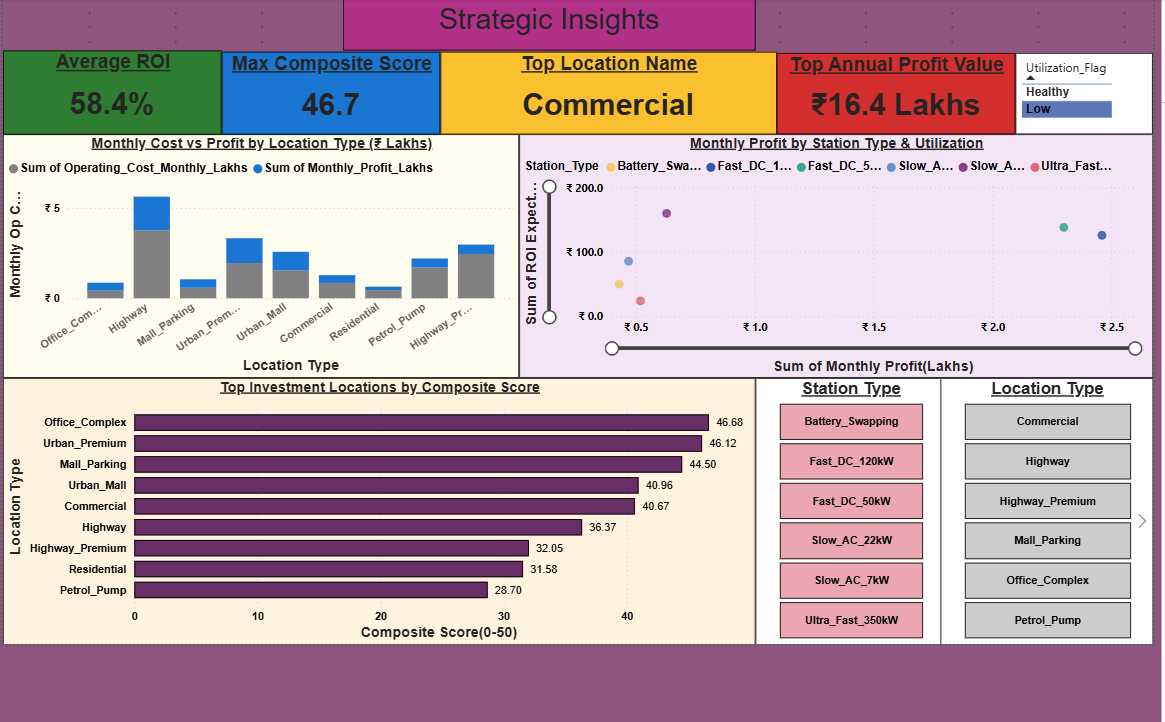

This screenshot's page, from the dashboard's own definition file:
{"tool":"powerbi","page":{"name":"Strategic Insights","canvas":[1280,720],"ordinal":3},"visuals":[{"type":"clusteredBarChart","title":"Top Investment Locations by Composite Score","fields":{"Category":["LocationScoreTbl.Location_Type"],"Y":["Sum(LocationScoreTbl.Avg_Composite_Score)"]},"box":[0,423,837.6,297.7],"z":0},{"type":"slicer","title":"Station Type","fields":{"Values":["StationTbl.Station_Type"]},"box":[837.6,423,211.5,297.7],"z":1000},{"type":"scatterChart","title":"Monthly Profit by Station Type & Utilization","fields":{"X":["Sum(StationTbl.Monthly_Profit_Lakhs)"],"Y":["Sum(StationTbl.ROI_Expected_Percent)"],"Series":["StationTbl.Station_Type"]},"box":[574.6,151.7,705.4,271.3],"z":2000},{"type":"columnChart","title":"Monthly Cost vs Profit by Location Type (₹ Lakhs)","fields":{"Category":["StationTbl.Location_Type"],"Y":["Sum(StationTbl.Operating_Cost_Monthly_Lakhs)","Sum(StationTbl.Monthly_Profit_Lakhs)"]},"box":[0,151.7,574.6,271.3],"z":3000},{"type":"slicer","title":"Location Type","fields":{"Values":["StationTbl.Location_Type"]},"box":[1043.5,423,236.5,297.7],"z":4000},{"type":"tableEx","fields":{"Values":["StationTbl.Utilization_Flag "]},"box":[1127,61.2,153,90.4],"z":5000},{"type":"card","title":"Max Composite Score","fields":{"Values":["StationTbl.MaxCompositeScore"]},"box":[243.5,59.8,243.5,91.8],"z":6000},{"type":"card","title":"Average ROI","fields":{"Values":["StationTbl.AvgROIFormatted"]},"box":[0,58.4,243.5,93.2],"z":7000},{"type":"card","title":"Top Location Name","fields":{"Values":["StationTbl.TopLocationName"]},"box":[487,59.8,374.3,91.8],"z":8000},{"type":"card","title":"Top Annual Profit Value","fields":{"Values":["StationTbl.TopProfitFormatted"]},"box":[861.2,61.2,265.7,90.4],"z":9000},{"type":"textbox","box":[378.4,0,459.1,58.4],"z":10000}]}

Visuals, with their boxes in screenshot pixels (x1, y1, x2, y2):
"Top Investment Locations by Composite Score" clusteredBarChart: box(0, 377, 752, 644)
"Station Type" slicer: box(752, 377, 942, 644)
"Monthly Profit by Station Type & Utilization" scatterChart: box(516, 133, 1149, 377)
"Monthly Cost vs Profit by Location Type (₹ Lakhs)" columnChart: box(0, 133, 516, 377)
"Location Type" slicer: box(937, 377, 1149, 644)
tableEx - StationTbl.Utilization_Flag : box(1012, 52, 1149, 133)
"Max Composite Score" card: box(219, 51, 437, 133)
"Average ROI" card: box(0, 49, 219, 133)
"Top Location Name" card: box(437, 51, 773, 133)
"Top Annual Profit Value" card: box(773, 52, 1011, 133)
textbox: box(340, 0, 752, 49)
